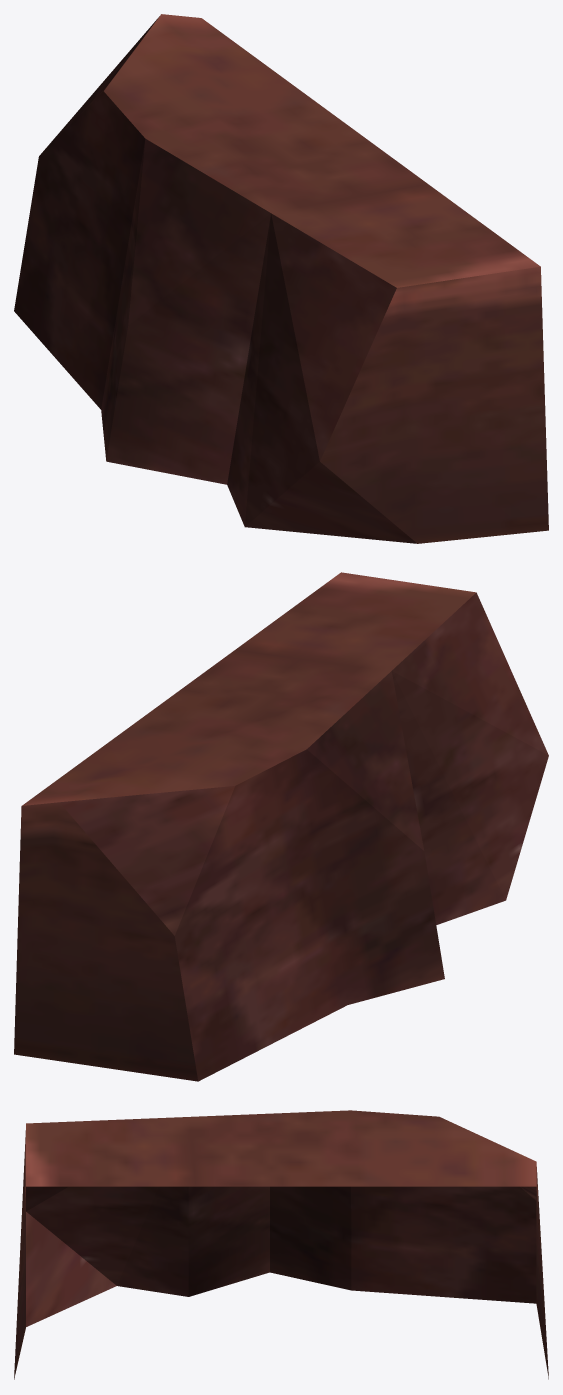
The model's file is lava_cap_end_01.fbx.
The picture shows the model from 3 angles, top to bottom: view 1: azimuth 30°, elevation 25°; view 2: azimuth 150°, elevation 25°; view 3: azimuth 270°, elevation 25°; orthographic projection. The views are drawn at different scales.
Visible parts, largest first — view 1: lava_tileset/trim_alpha_filler_depth_write; view 2: lava_tileset/trim_alpha_filler_depth_write; view 3: lava_tileset/trim_alpha_filler_depth_write.
Boxes of the visible parts, x1,y1,x2,y2 form: lava_tileset/trim_alpha_filler_depth_write: (14, 14, 548, 543); lava_tileset/trim_alpha_filler_depth_write: (14, 572, 548, 1081); lava_tileset/trim_alpha_filler_depth_write: (14, 1110, 548, 1379).
Size of the model in its own units: 0.5533 by 0.5268 by 1.25.
